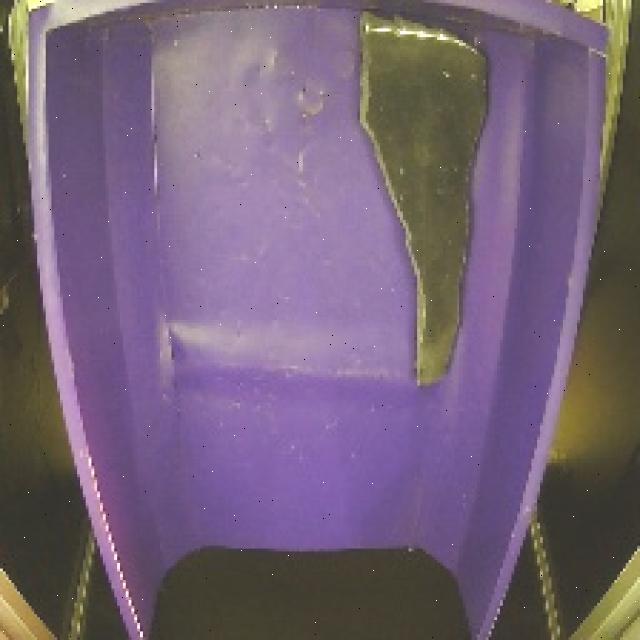china: (350, 6, 500, 400)
